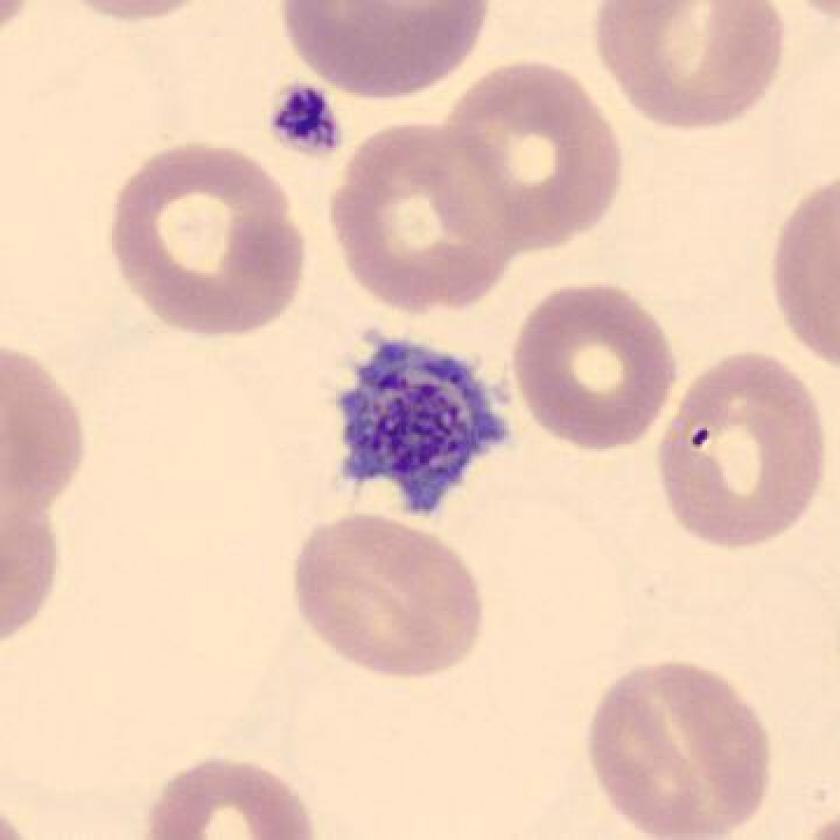platelets: (325, 311, 524, 529), (262, 75, 356, 170)
